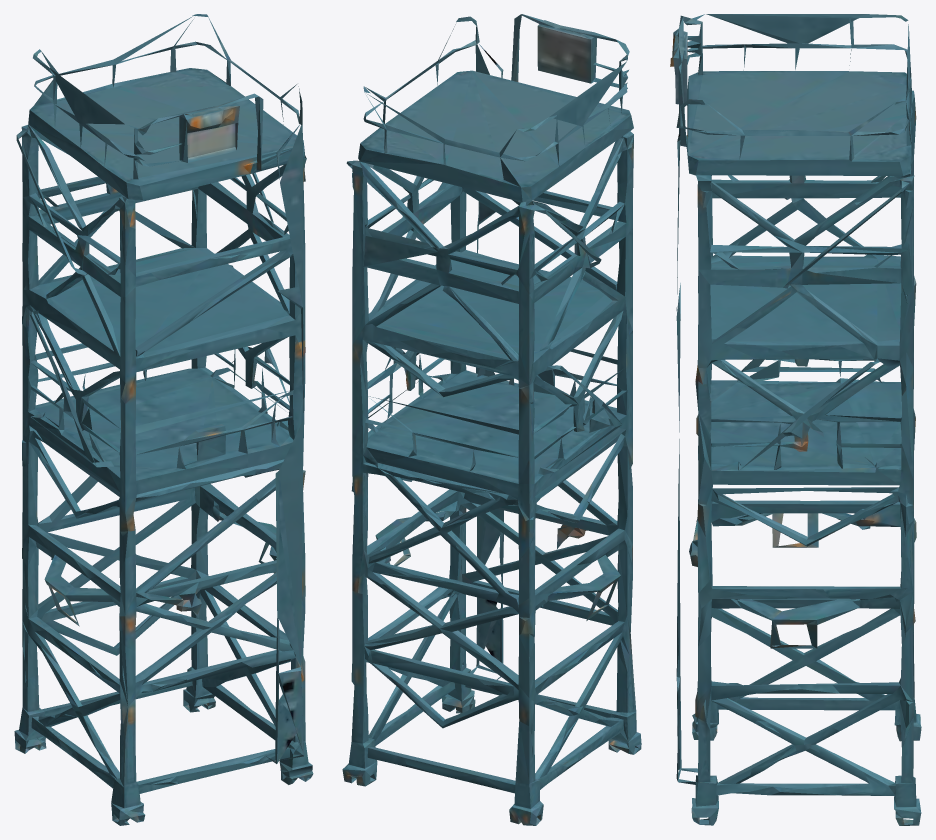
File: gantry.glb
3 views of the same model, side by side, from view 1: azimuth 30°, elevation 25°; view 2: azimuth 150°, elevation 25°; view 3: azimuth 270°, elevation 25° (orthographic). The views are drawn at different scales.
Visible parts, largest first — view 1: output_unwrapped; view 2: output_unwrapped; view 3: output_unwrapped.
Boxes of the visible parts, left/top/right/bottom form: output_unwrapped: left=14, top=14, right=313, bottom=825; output_unwrapped: left=342, top=14, right=641, bottom=825; output_unwrapped: left=670, top=14, right=921, bottom=825.
Bounding box in the file's own units: 0.6381 × 1.9 × 0.5907.
Materials: 1 (1 with a texture image).
